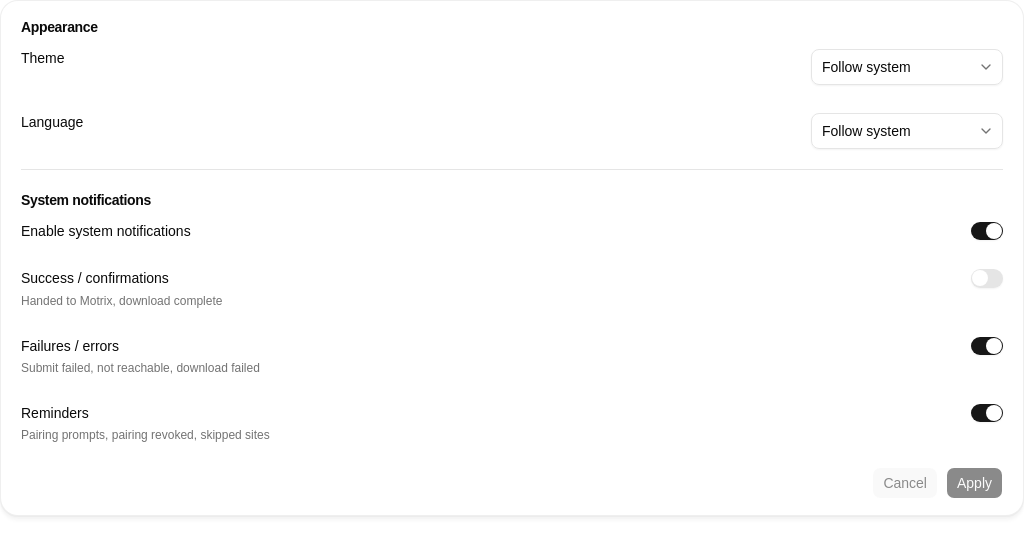
Test: GeneralTab › shows an error instead of saved when the background rejects a setting
This screenshot has width=1024, height=535.
Click the switch named "Enable system notifications": (987, 231) 971,222 -> 1003,240
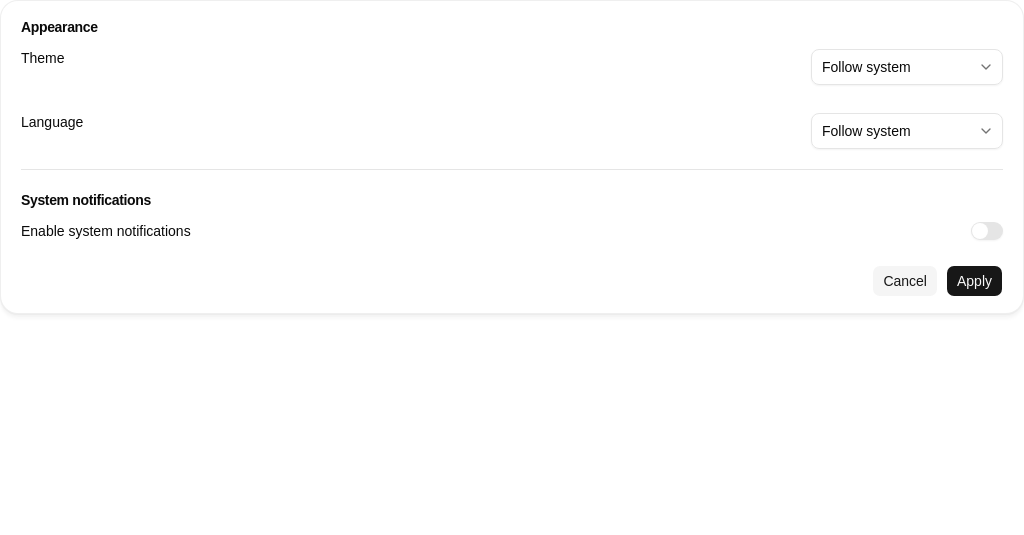
Click the button "Apply": (974, 281) 946,265 -> 1003,297
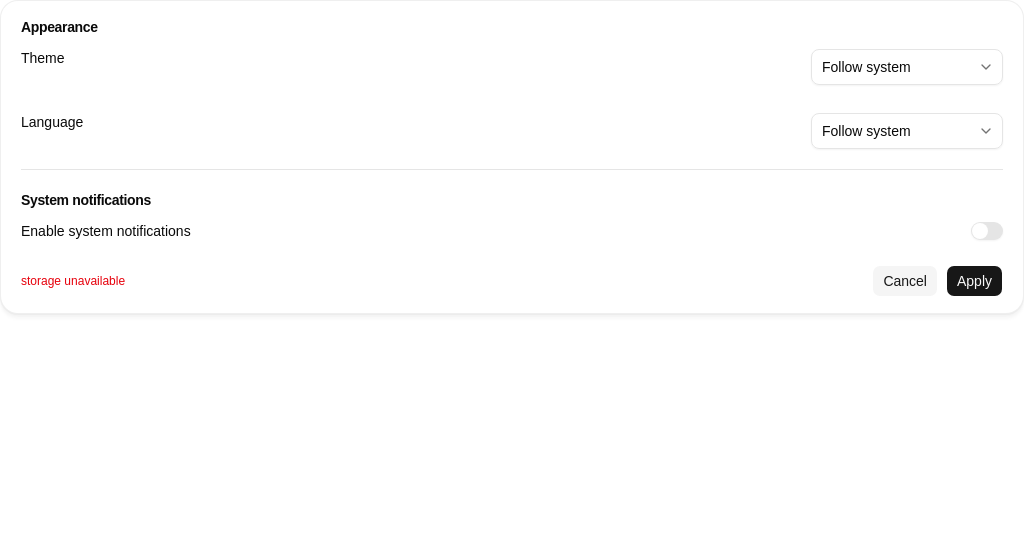
Now the text "storage unavailable" is shown, box 21,273 -> 125,289
